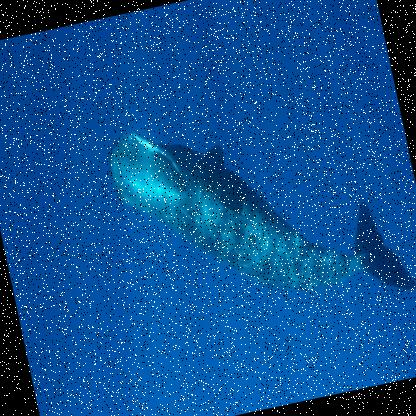sperm_whale: (80, 65, 415, 355)
